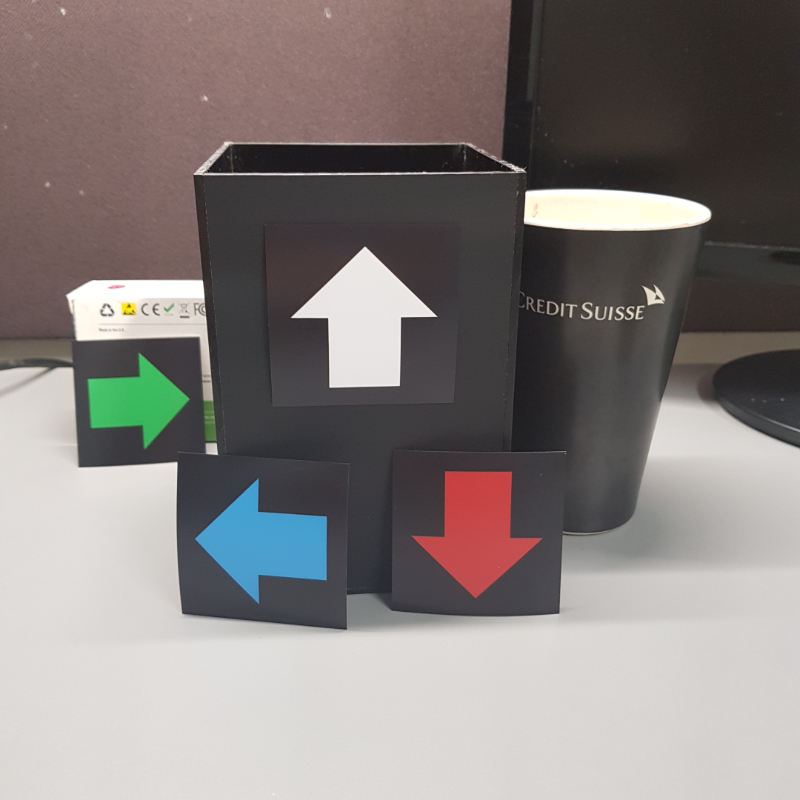DA-2: (399, 459, 557, 605)
LA-4: (188, 468, 342, 612)
RA-3: (82, 345, 195, 455)
UA-1: (276, 228, 449, 399)
